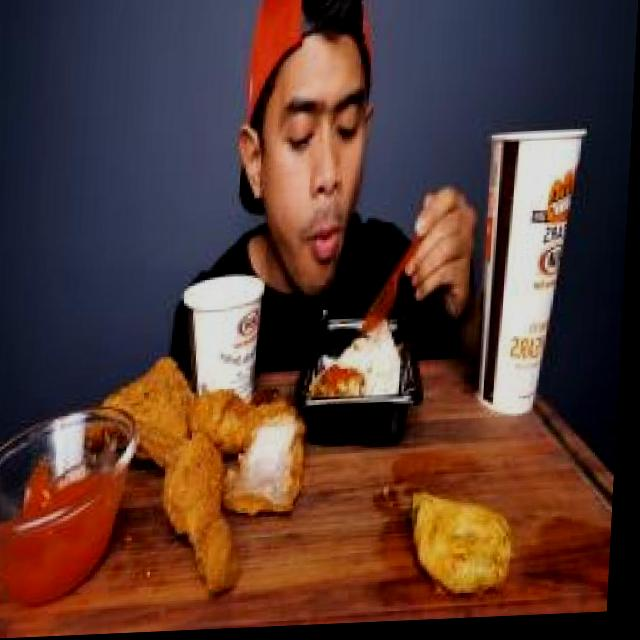AW cola: (471, 112, 600, 441)
black pepper rice bowl: (307, 283, 411, 442)
crispy corn: (168, 268, 269, 422)
fried chicken: (101, 343, 319, 589)
perkedel: (404, 471, 535, 620)
